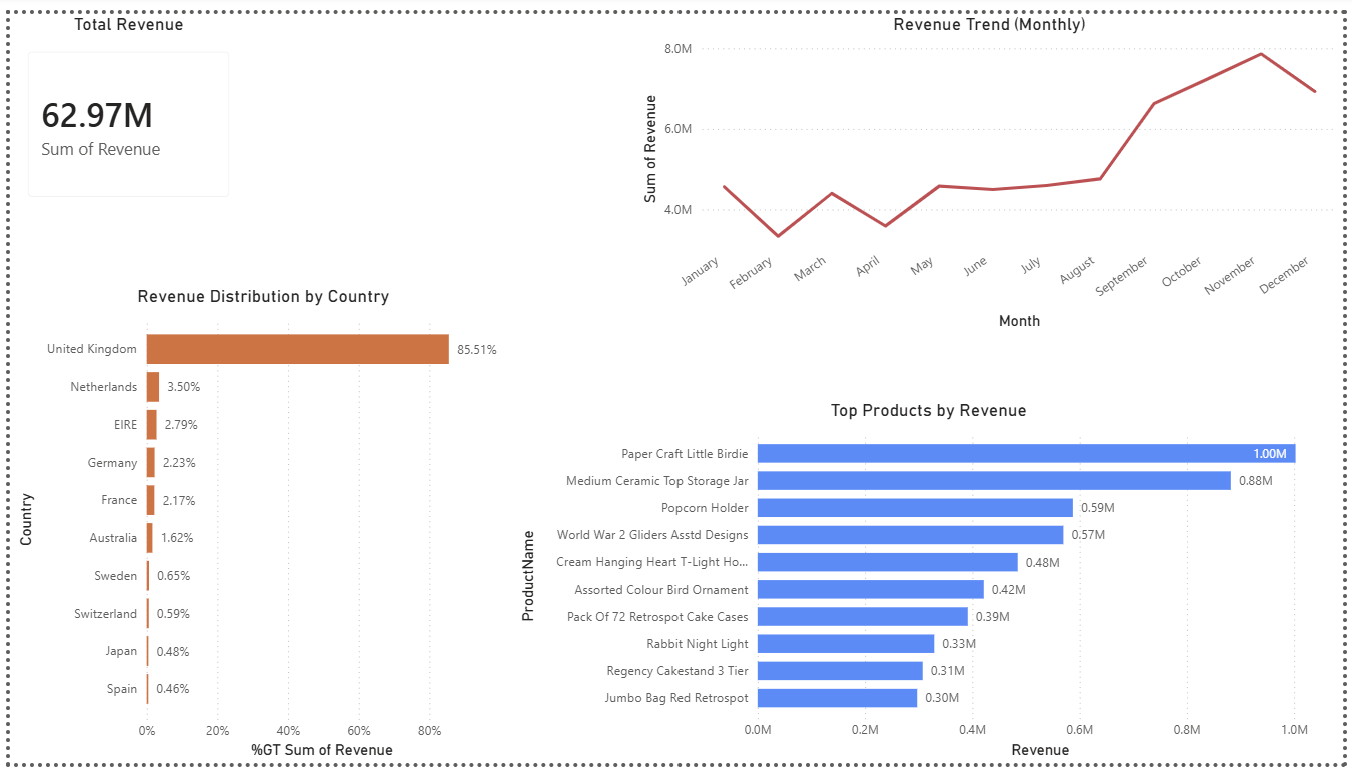

The page's visual inventory and layout, read from the dashboard file:
{"tool":"powerbi","page":{"name":"Page 1","canvas":[1280,720],"ordinal":0},"visuals":[{"type":"lineChart","title":"Revenue Trend (Monthly)","fields":{"Y":["Sum(Table1.Revenue)"],"Category":["Table1.Date.Variation.Date Hierarchy.Month"]},"box":[602,0,677.6,308.2],"z":0},{"type":"clusteredBarChart","title":"Revenue Distribution by Country","fields":{"Category":["Table1.Country"],"Y":["Sum(Table1.Revenue)"]},"box":[2,261.2,483.7,459.2],"z":1000},{"type":"clusteredBarChart","title":"Top Products by Revenue","fields":{"Category":["Table1.ProductName"],"Y":["Sum(Table1.Revenue)"]},"box":[483.7,371.4,795.9,349],"z":2000},{"type":"cardVisual","title":"Total Revenue","fields":{"Data":["Sum(Table1.Revenue)"]},"box":[0,0,228.6,193.9],"z":3000}]}

Visuals, with their boxes in screenshot pixels (x1, y1, x2, y2), scaled from the page's 1280x720 canvas onto the 1352x780 screenshot:
"Revenue Trend (Monthly)" lineChart: [636, 0, 1351, 334]
"Revenue Distribution by Country" clusteredBarChart: [2, 283, 513, 779]
"Top Products by Revenue" clusteredBarChart: [511, 402, 1351, 779]
"Total Revenue" cardVisual: [0, 0, 241, 210]
